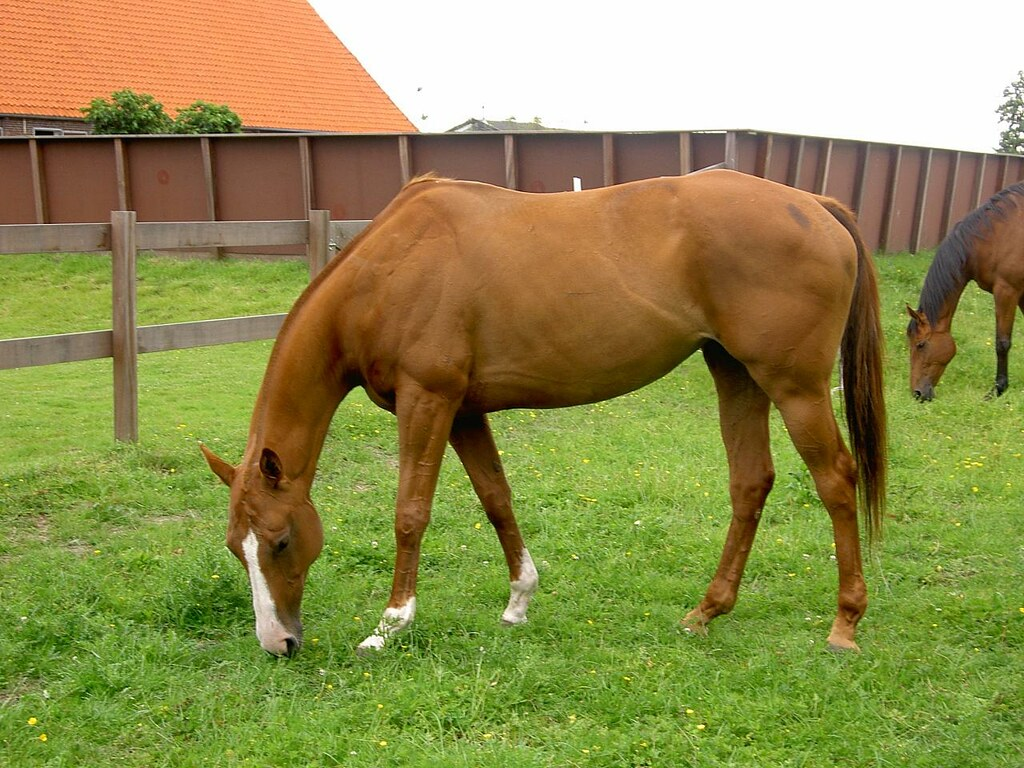horse: (202, 163, 882, 668), (903, 174, 1024, 404)
